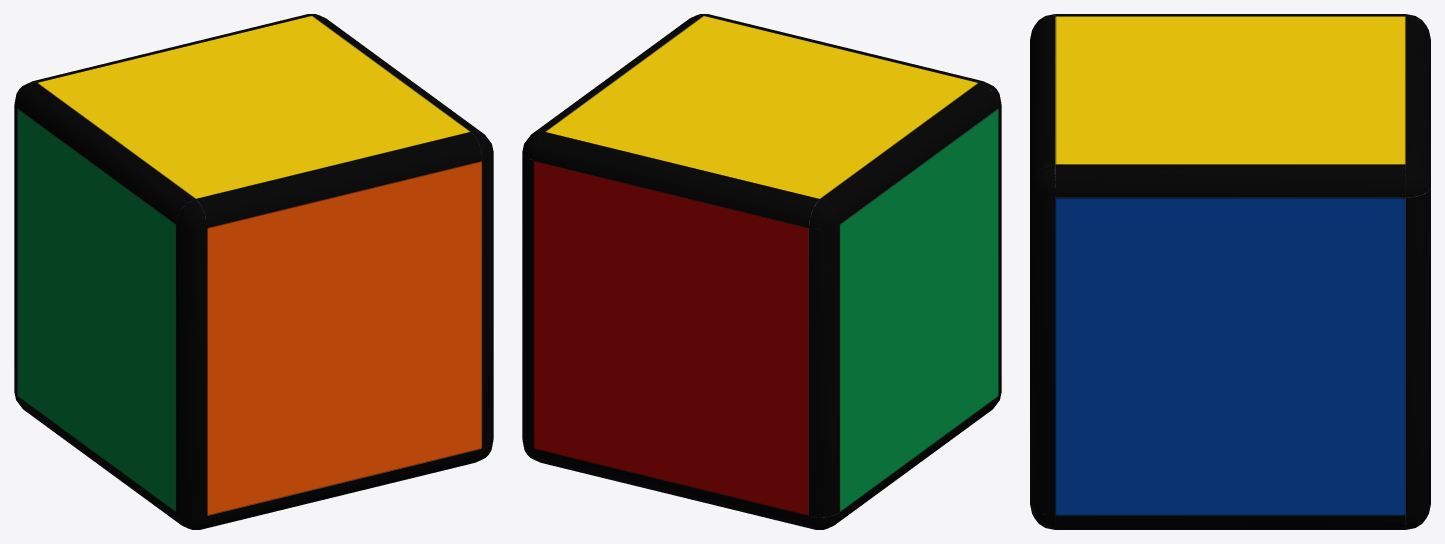
The model's file is Cubelet.fbx.
3 renders of one model, left to right at view 1: azimuth 30°, elevation 25°; view 2: azimuth 150°, elevation 25°; view 3: azimuth 270°, elevation 25°, orthographic. The views are drawn at different scales.
Parts seen in each view (by area): view 1: Cube; view 2: Cube; view 3: Cube.
Part boxes in pixels (box(x1,y1,x2,y2)): Cube: box(14, 14, 493, 529); Cube: box(522, 14, 1001, 529); Cube: box(1030, 14, 1430, 529).
Size of the model in its own units: 100 by 100 by 100.
